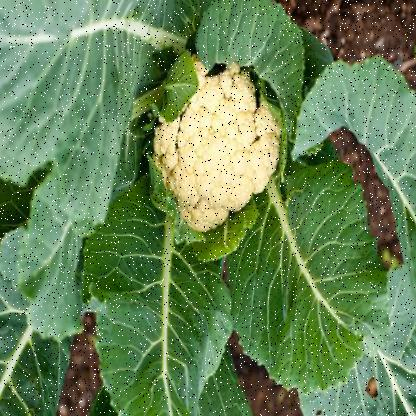cauliflower: (153, 34, 296, 246)
